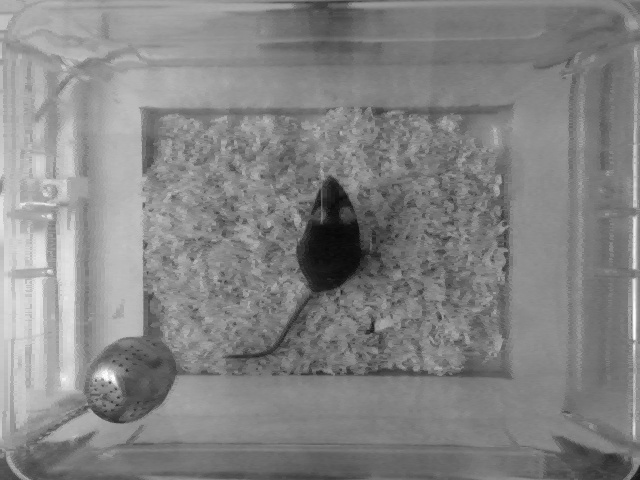mice: (222, 173, 358, 358)
